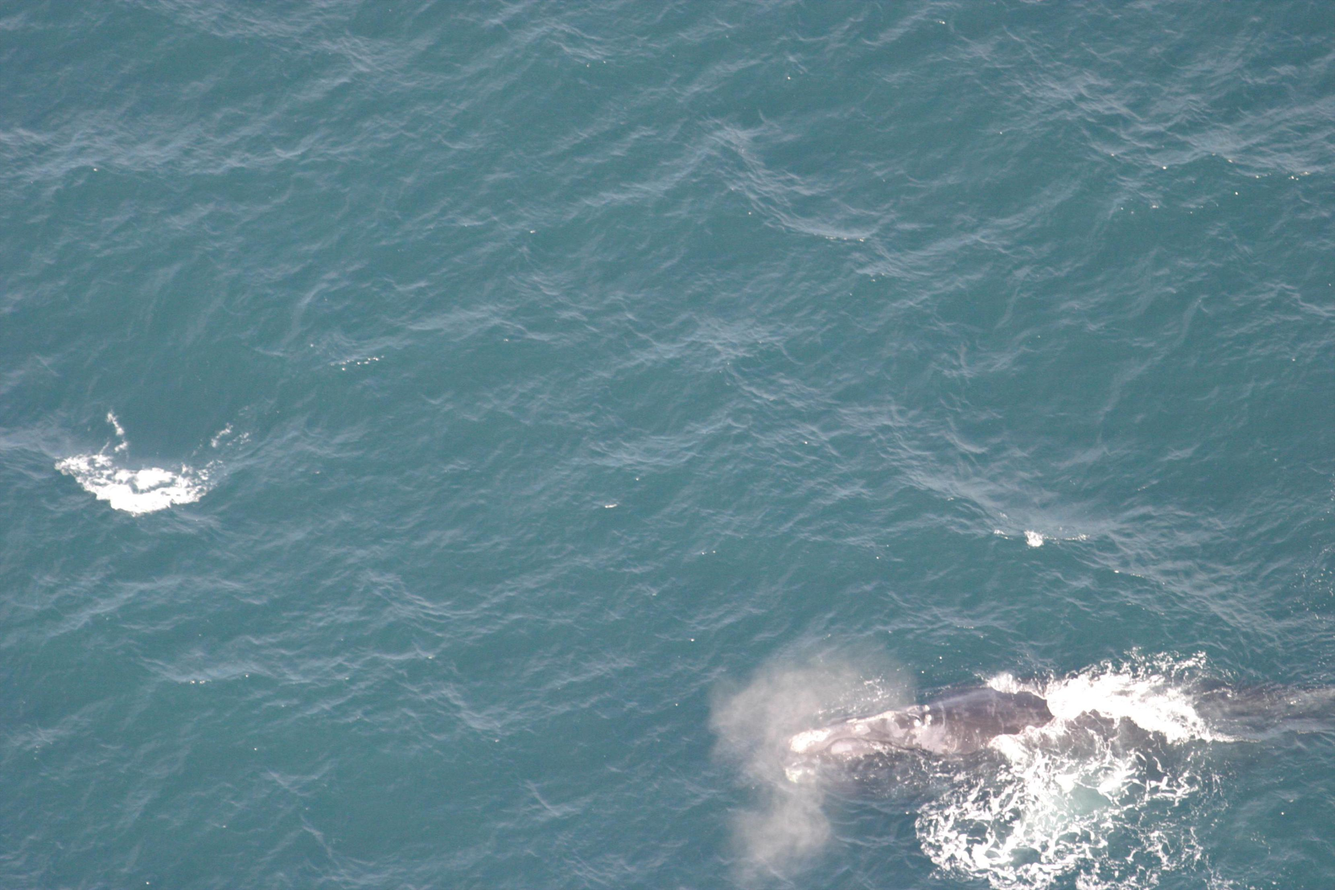whale: (765, 654, 1335, 822)
